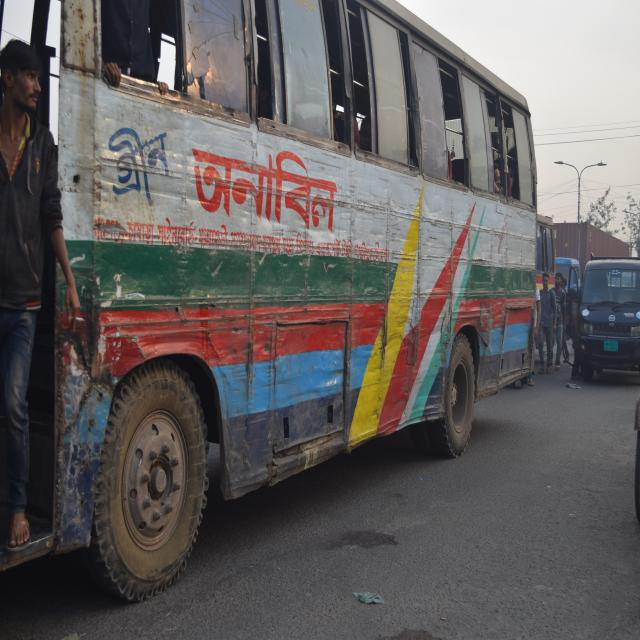bus: (0, 0, 535, 532), (534, 213, 556, 331)
microbus: (573, 255, 640, 382)
